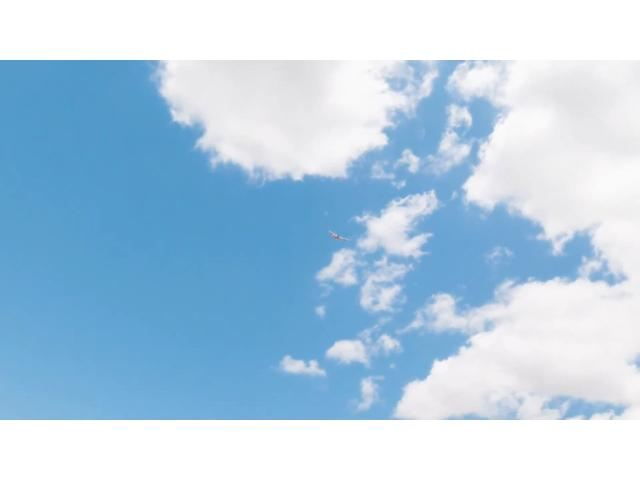Anti-Drone: (320, 223, 354, 245)
